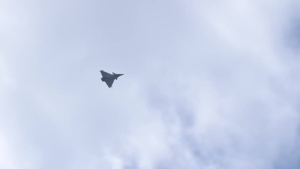flight: (99, 69, 125, 87)
